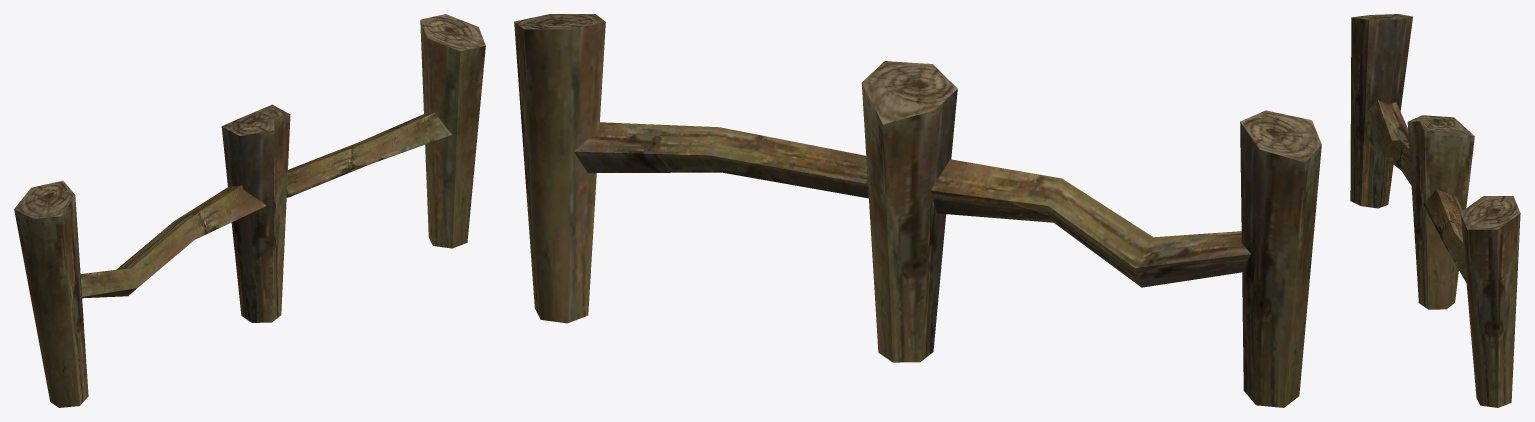
Rendered from THL1_12.fbx.
3 renders of one model, left to right at view 1: azimuth 30°, elevation 25°; view 2: azimuth 150°, elevation 25°; view 3: azimuth 270°, elevation 25°, orthographic. The views are drawn at different scales.
Parts seen in each view (by area): view 1: polySurface27; view 2: polySurface27; view 3: polySurface27.
Boxes of the visible parts, <box> form: polySurface27: <box>14,14,485,407</box>; polySurface27: <box>514,14,1321,407</box>; polySurface27: <box>1350,14,1520,407</box>.
Bounding box in the file's own units: 4.92 × 1.99 × 1.54.
